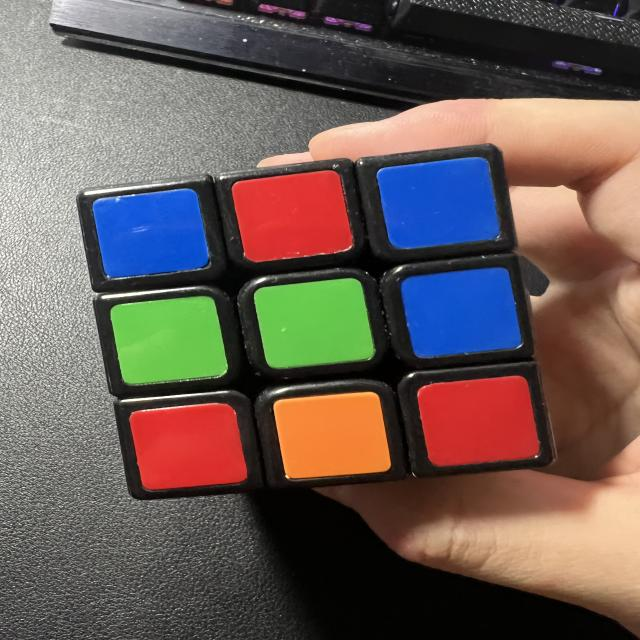blue: (376, 154, 501, 253), (398, 264, 523, 361), (91, 186, 211, 280)
center: (253, 274, 376, 374)
green: (109, 293, 229, 387)
orange: (273, 389, 392, 481)
red: (230, 167, 355, 266), (416, 374, 541, 469), (129, 400, 248, 492)
